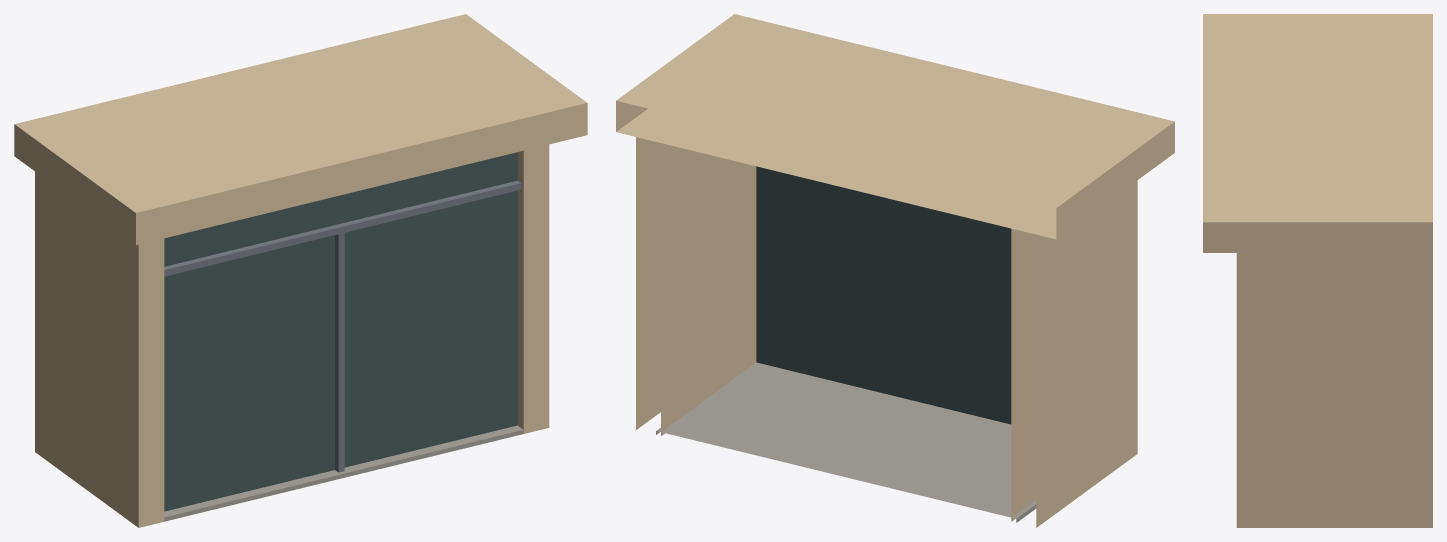
The model's file is entrance.fbx.
The picture shows the model from 3 angles, left to right: view 1: azimuth 30°, elevation 25°; view 2: azimuth 150°, elevation 25°; view 3: azimuth 270°, elevation 25°; orthographic projection. The views are drawn at different scales.
Visible parts, largest first — view 1: a2012/400/entrance; view 2: a2012/400/entrance; view 3: a2012/400/entrance.
Part boxes in pixels (bbox=[...]): a2012/400/entrance: bbox=[14, 14, 587, 527]; a2012/400/entrance: bbox=[616, 14, 1174, 527]; a2012/400/entrance: bbox=[1203, 14, 1432, 527].
Bounding box in the file's own units: 4.4 × 3.1 × 2.05.
